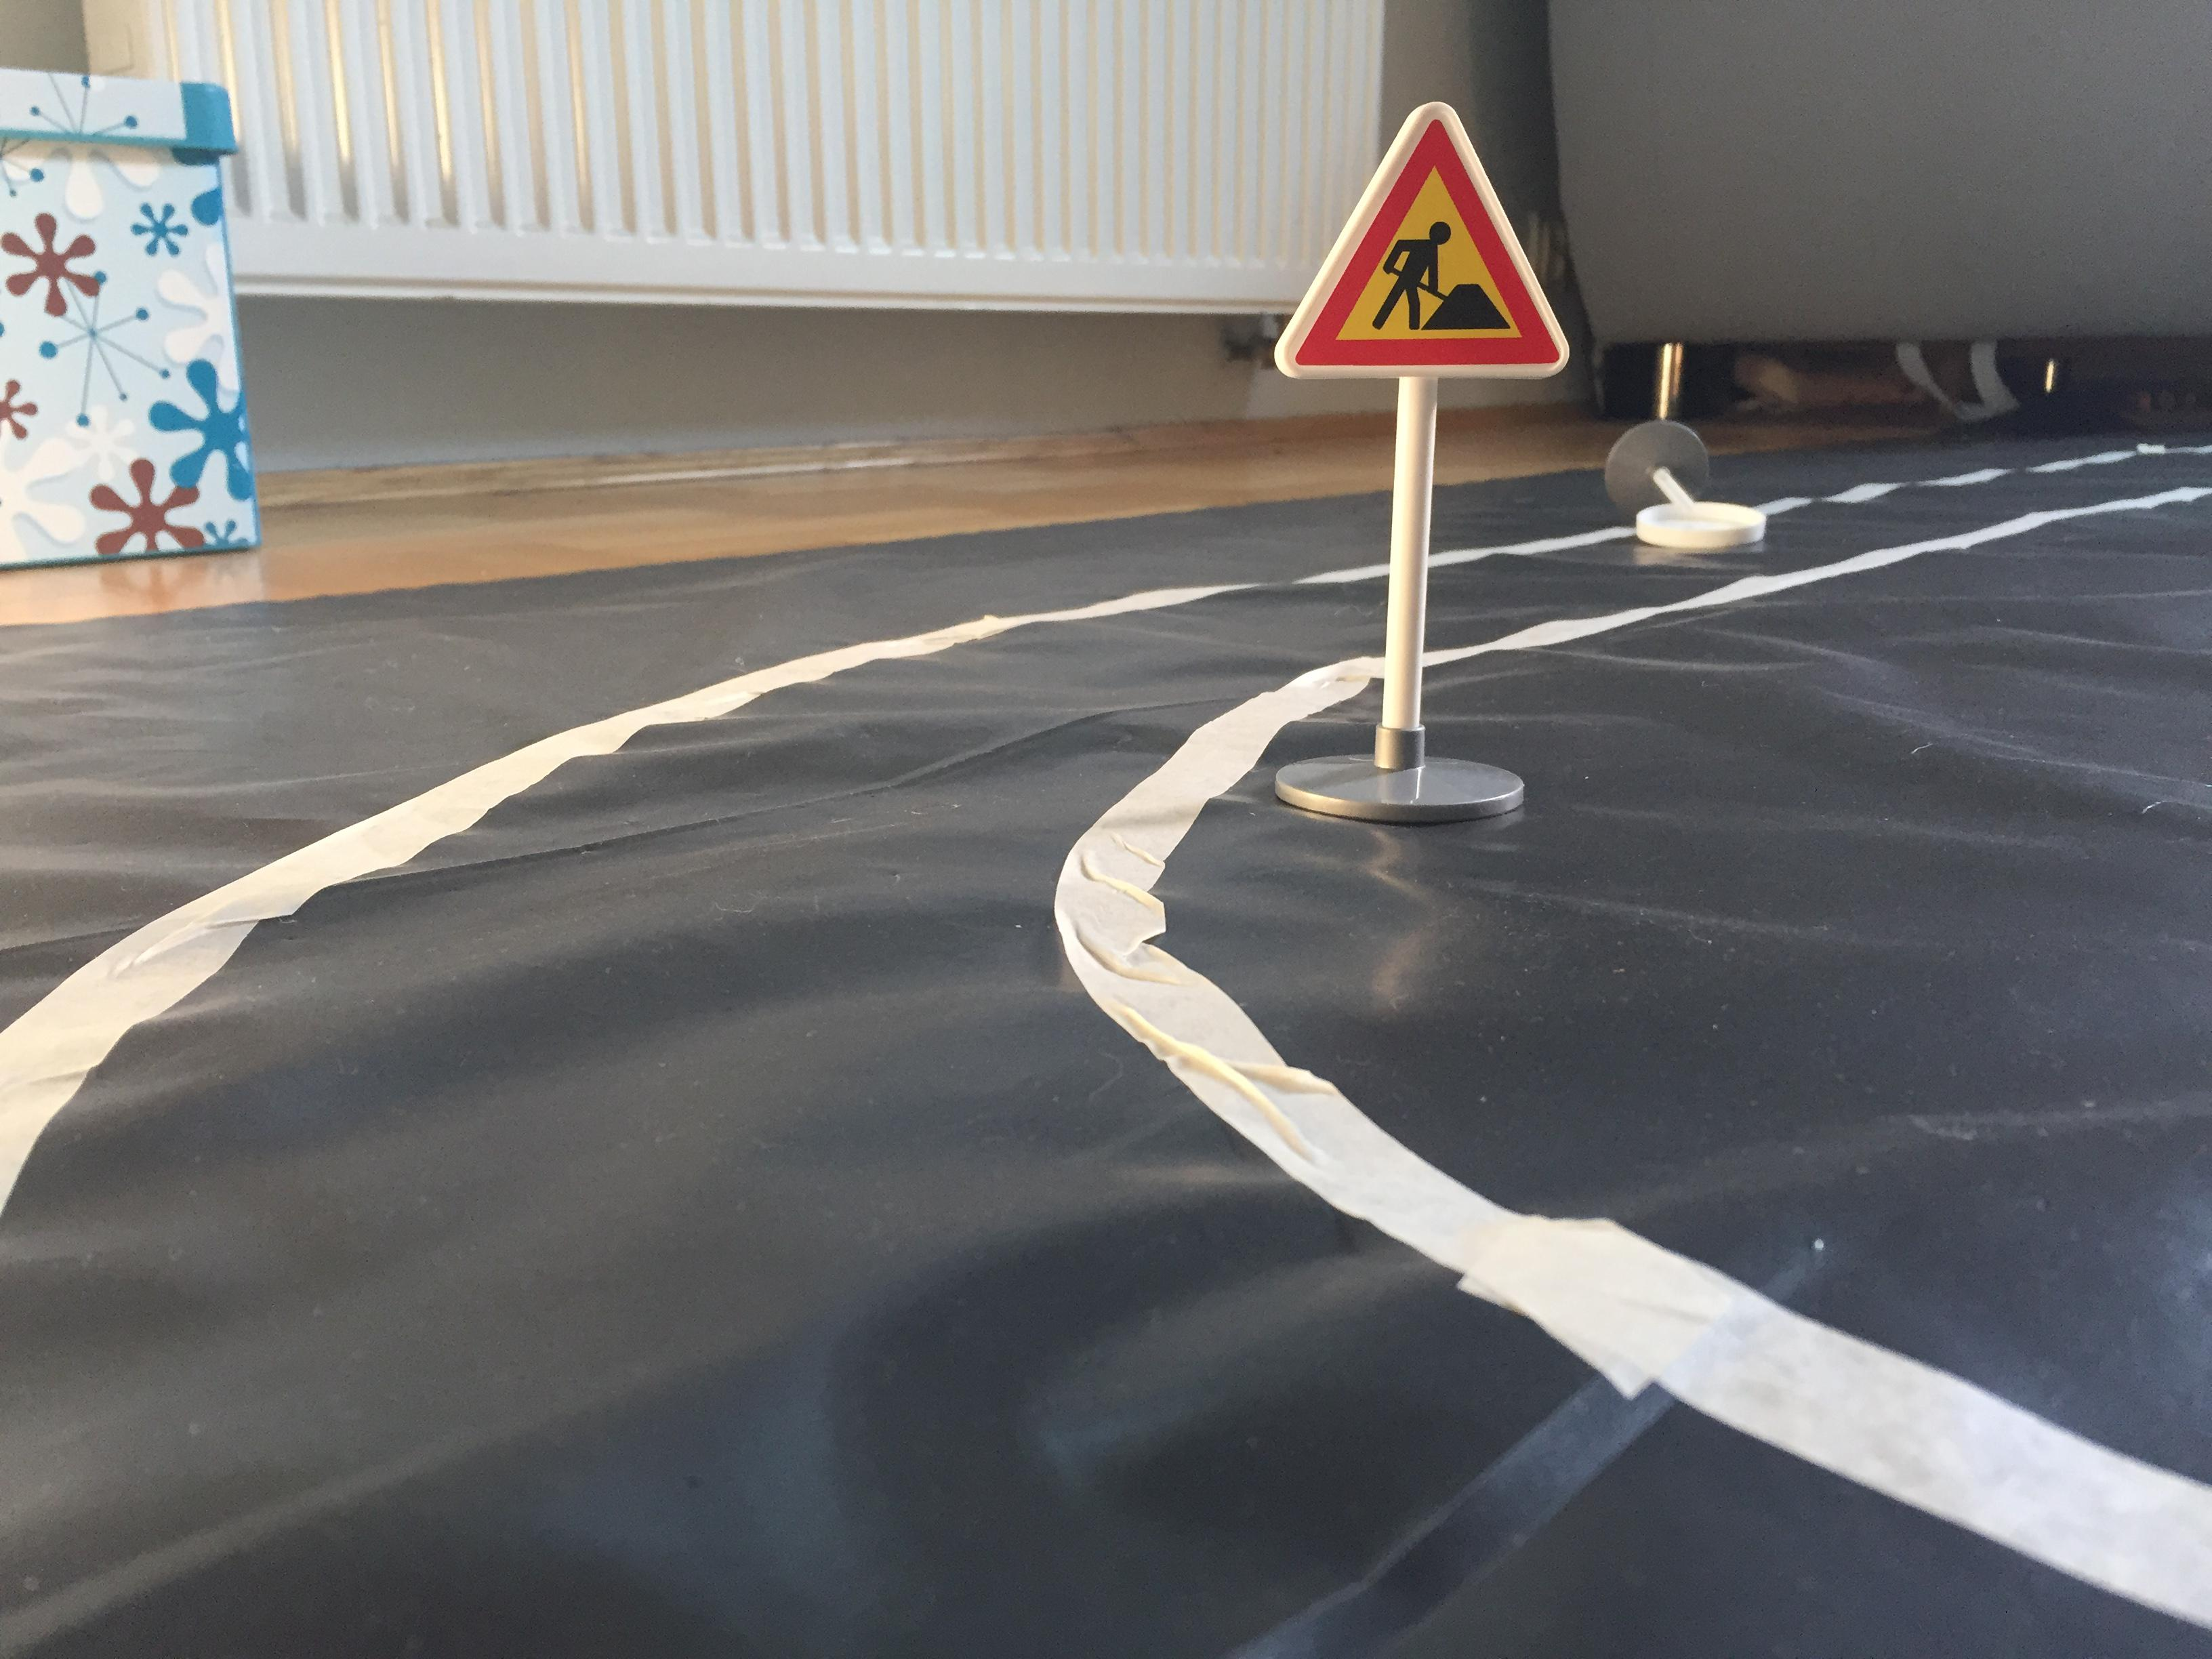work: (1256, 89, 1590, 399)
